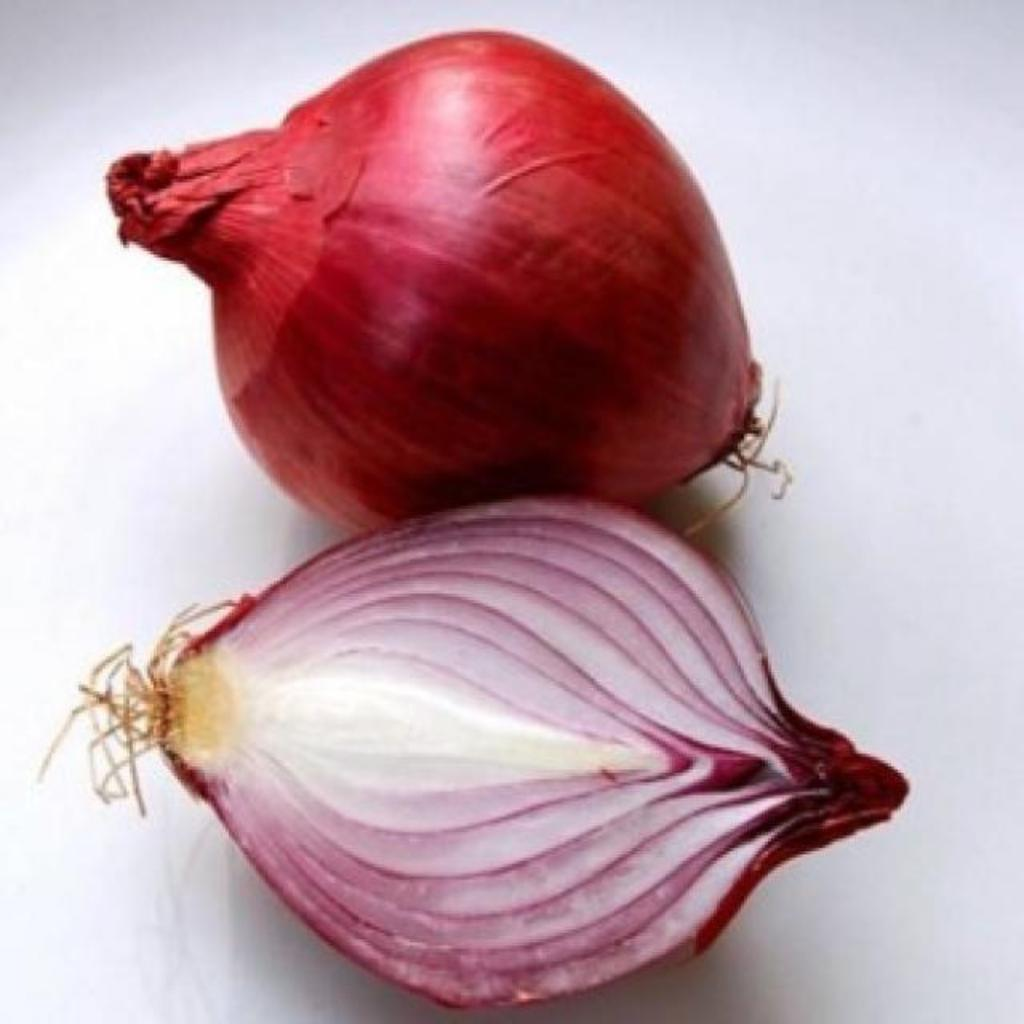Onion: (107, 30, 760, 530)
